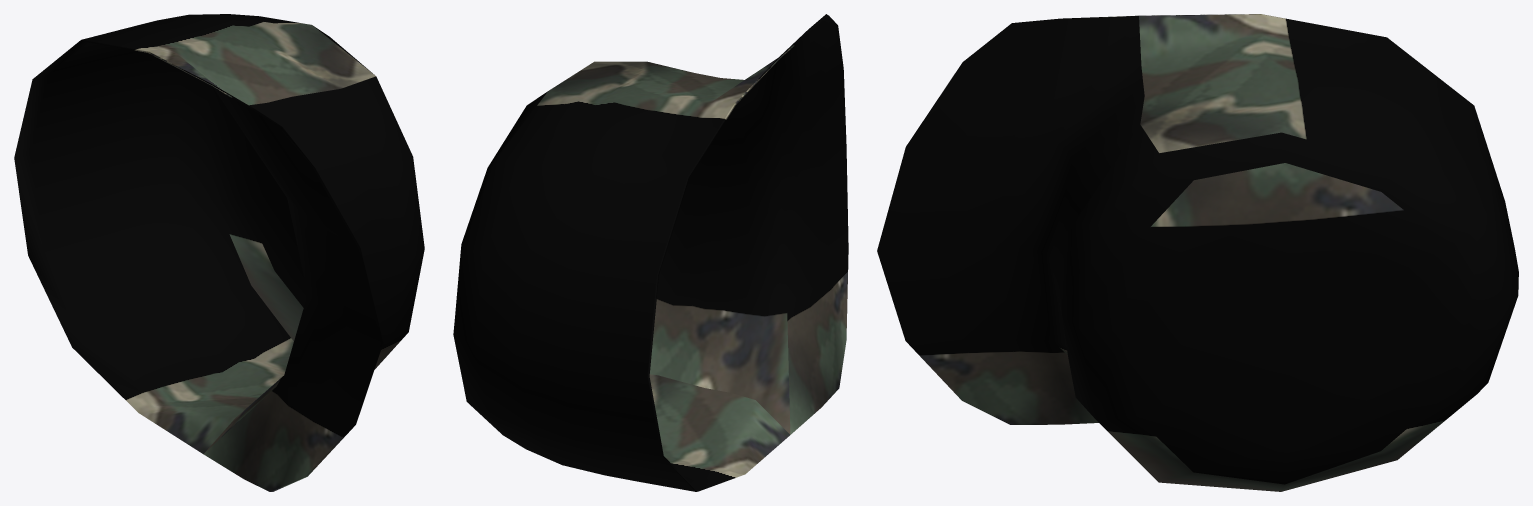
Rendered from ArmyHat.fbx.
3 renders of one model, left to right at view 1: azimuth 30°, elevation 25°; view 2: azimuth 150°, elevation 25°; view 3: azimuth 270°, elevation 25°, orthographic. The views are drawn at different scales.
Parts seen in each view (by area): view 1: Circle; view 2: Circle; view 3: Circle.
Part boxes in pixels (box(x1,y1,x2,y2)): Circle: box(14, 14, 424, 491); Circle: box(453, 14, 848, 491); Circle: box(877, 14, 1518, 491).
Size of the model in its own units: 0.0953 by 0.1448 by 0.2052.
